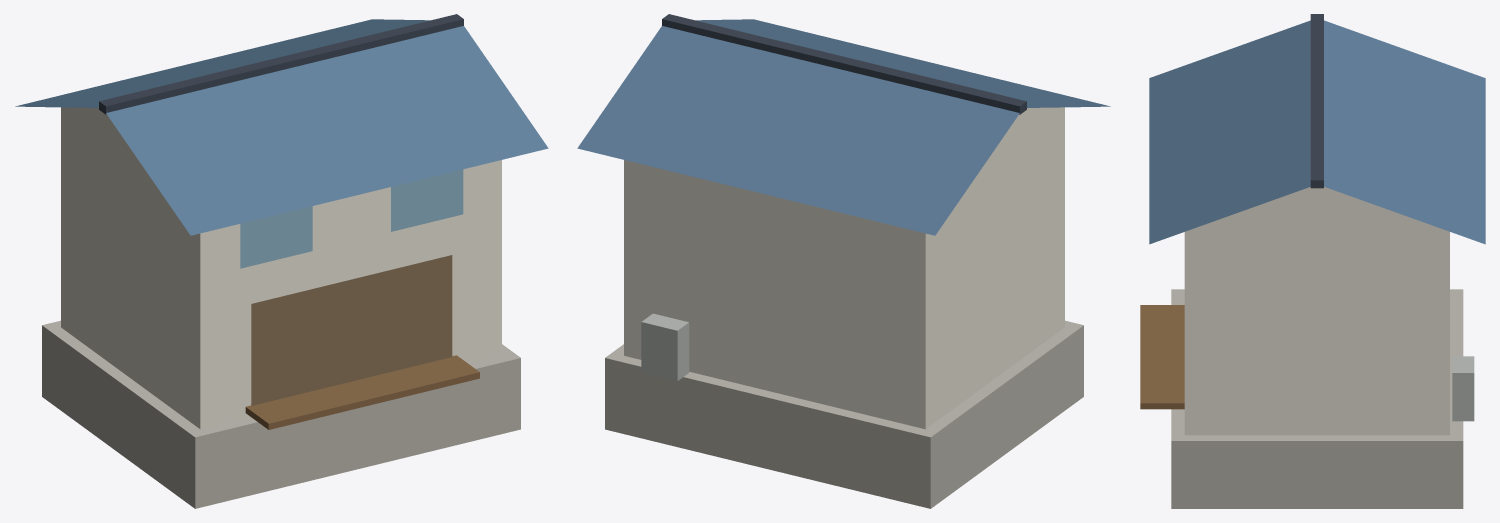
The model's file is house2.glb.
The picture shows the model from 3 angles, left to right: view 1: azimuth 30°, elevation 25°; view 2: azimuth 150°, elevation 25°; view 3: azimuth 270°, elevation 25°; orthographic projection. The views are drawn at different scales.
Visible parts, largest first — view 1: house2; view 2: house2; view 3: house2.
Boxes of the visible parts, <box> form: house2: <box>15,14,548,508</box>; house2: <box>577,14,1110,508</box>; house2: <box>1140,14,1485,508</box>.
Bounding box in the file's own units: 8.9 × 8.38 × 7.8.
